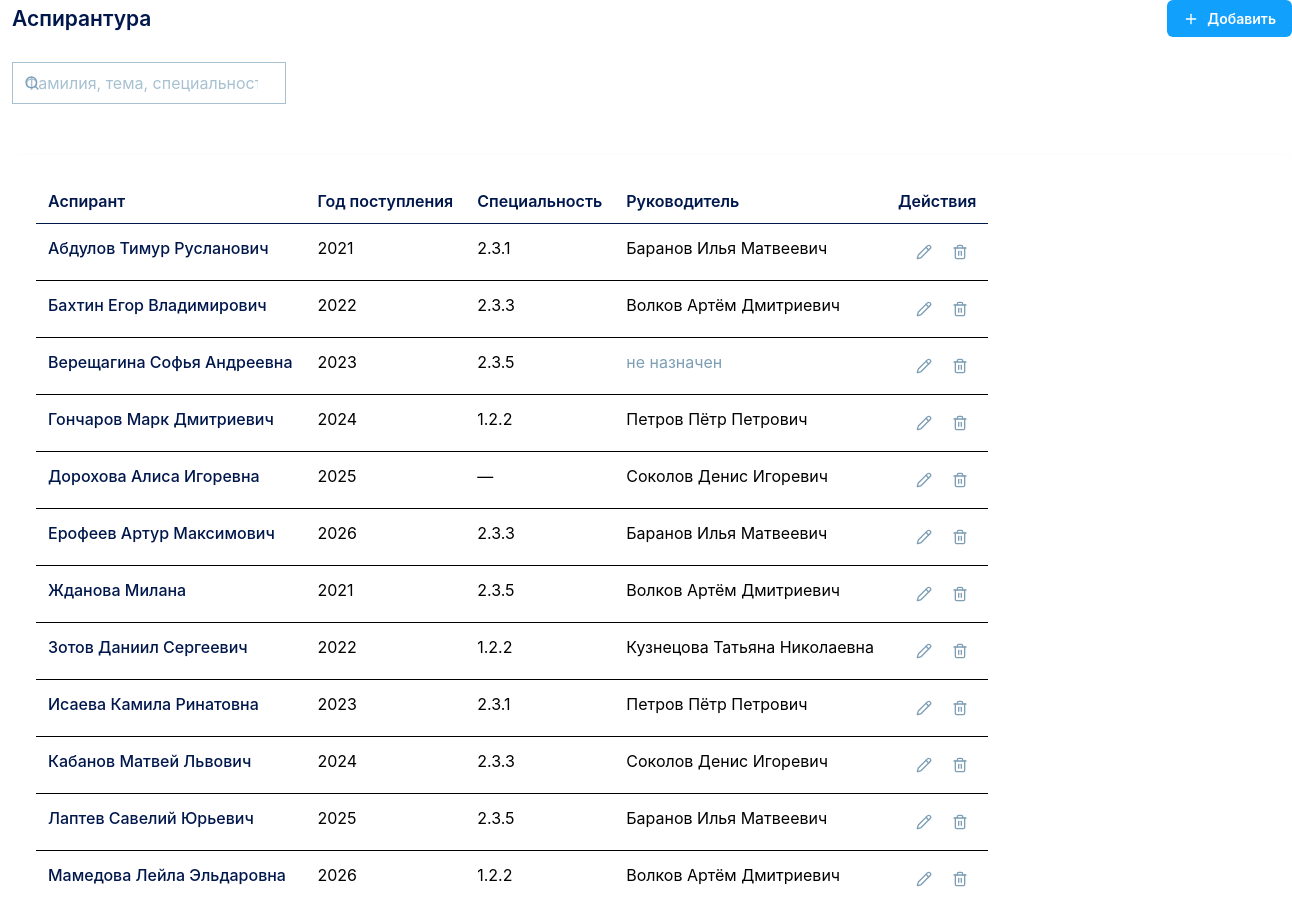
Test: AdminPostgraduatesPage, список › ищет на сервере и считает найденное
The image size is (1292, 900).
Check: the cell "Абдулов Тимур Русланович" is shown, box [36,224,305,280]
Type "жданова" into the search field named "Поиск записей аспирантуры" at (149,83), box [12,62,286,104]
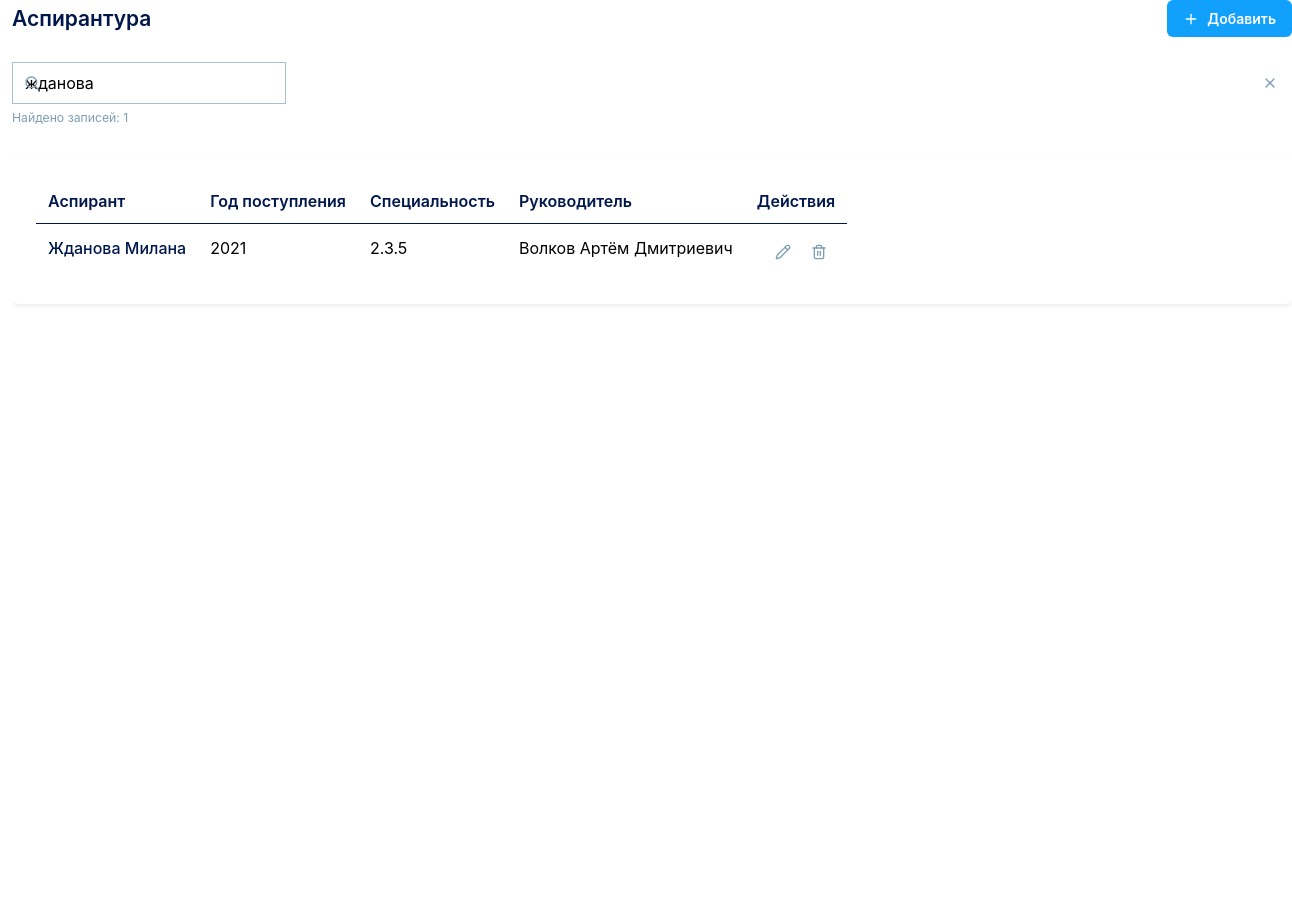
Check: the cell "Жданова Милана" is shown, box [36,224,198,280]
Check: the text "Найдено записей: 1" is shown, box [12,110,128,125]
Check: the text "Абдулов Тимур Русланович" is gone
